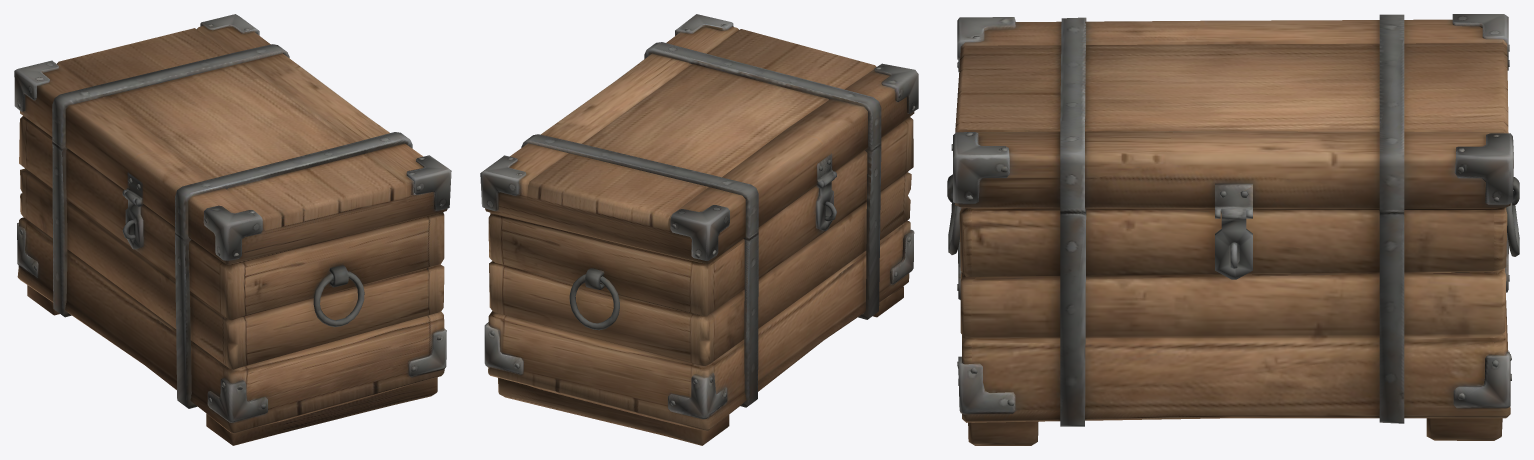
3 renders of one model, left to right at view 1: azimuth 30°, elevation 25°; view 2: azimuth 150°, elevation 25°; view 3: azimuth 270°, elevation 25°, orthographic. The views are drawn at different scales.
Parts seen in each view (by area): view 1: tripo_node_7b1da4a4-82d0-41a9-bce6-54d726adbb27; view 2: tripo_node_7b1da4a4-82d0-41a9-bce6-54d726adbb27; view 3: tripo_node_7b1da4a4-82d0-41a9-bce6-54d726adbb27.
Boxes of the visible parts, box(x1,y1,x2,y2) form: tripo_node_7b1da4a4-82d0-41a9-bce6-54d726adbb27: box(14, 14, 451, 445); tripo_node_7b1da4a4-82d0-41a9-bce6-54d726adbb27: box(480, 14, 918, 445); tripo_node_7b1da4a4-82d0-41a9-bce6-54d726adbb27: box(947, 14, 1519, 445).
Bounding box in the file's own units: 0.6504 × 0.5801 × 0.998.
Materials: 1 (1 with a texture image).
